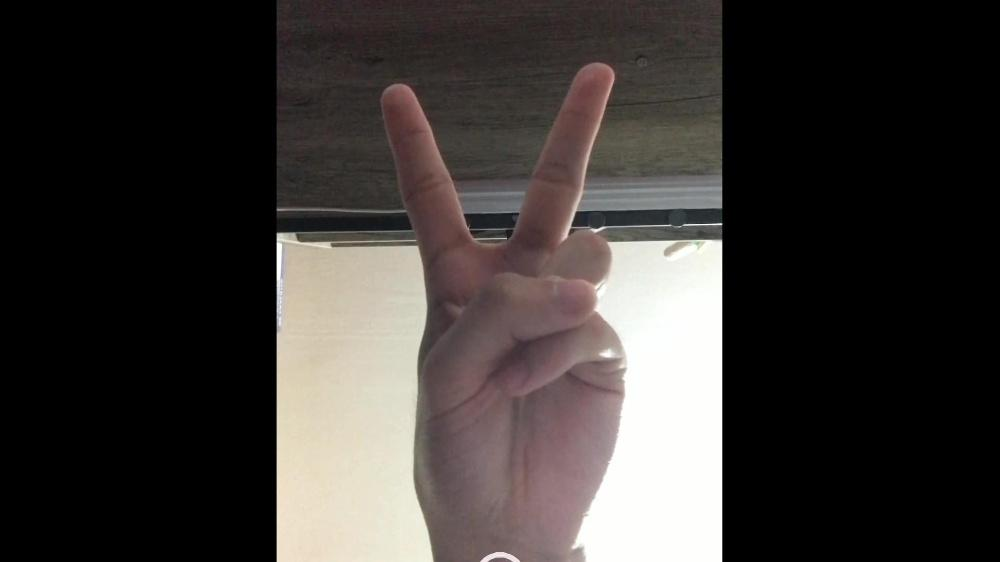v: (378, 63, 627, 530)
